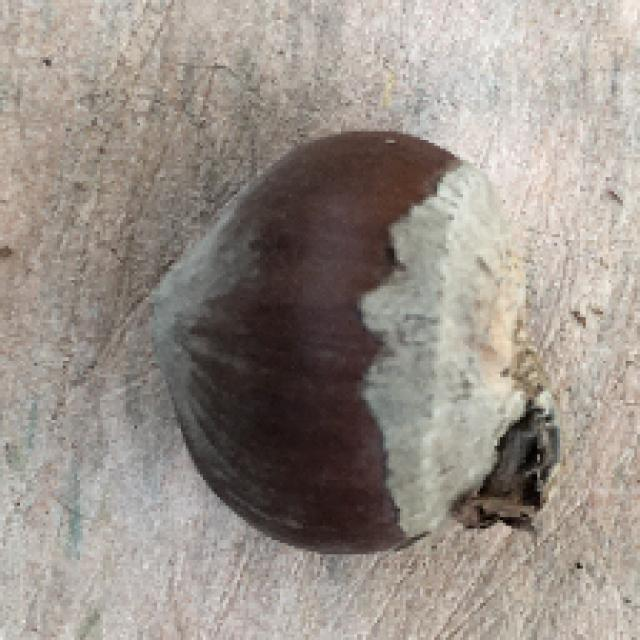damagedHazelnut: (154, 124, 561, 578)
